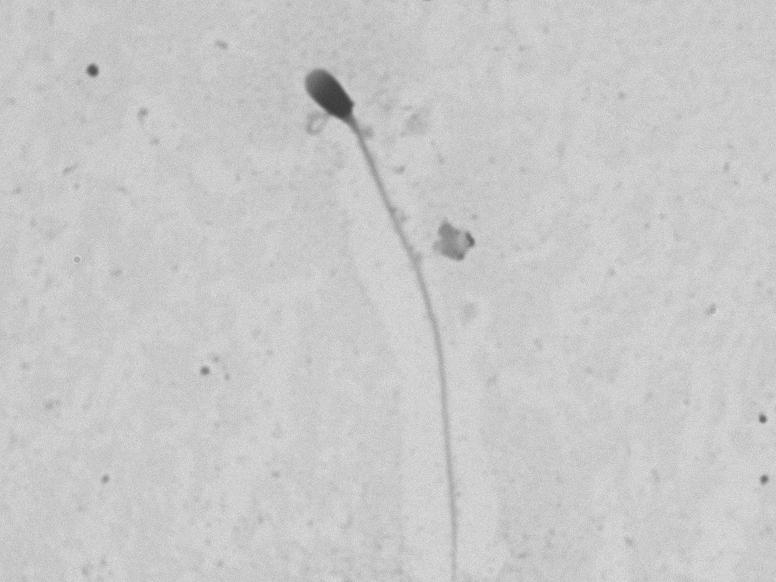Abnormal: (230, 28, 516, 569)
